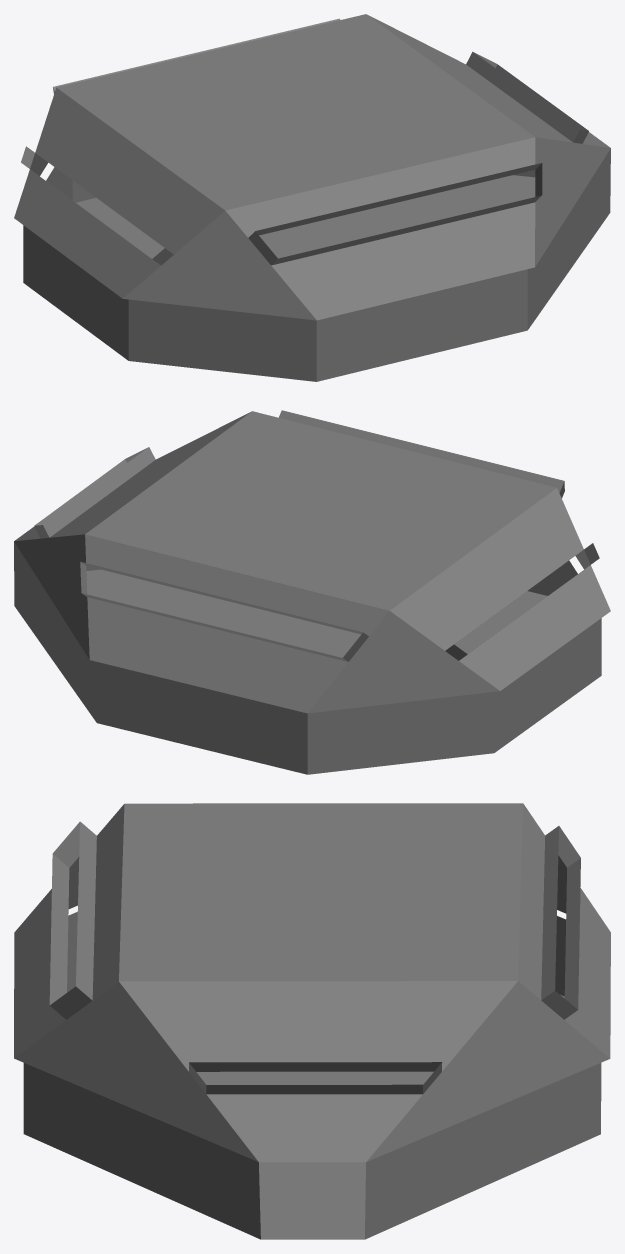
Rendered from zone-disco.glb.
The picture shows the model from 3 angles, top to bottom: view 1: azimuth 30°, elevation 25°; view 2: azimuth 150°, elevation 25°; view 3: azimuth 270°, elevation 25°; orthographic projection. The views are drawn at different scales.
Visible parts, largest first — view 1: dance; view 2: dance; view 3: dance.
Part boxes in pixels (x1=…): dance: x1=14, y1=14, x2=610, y2=381; dance: x1=14, y1=410, x2=610, y2=774; dance: x1=14, y1=803, x2=610, y2=1239.
Size of the model in its own units: 35.42 by 9.89 by 29.67.
2 materials, 1 textured.
